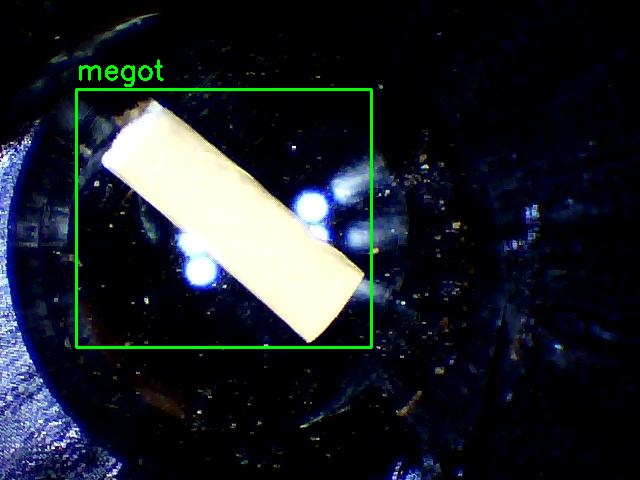megot: (76, 89, 371, 347)
